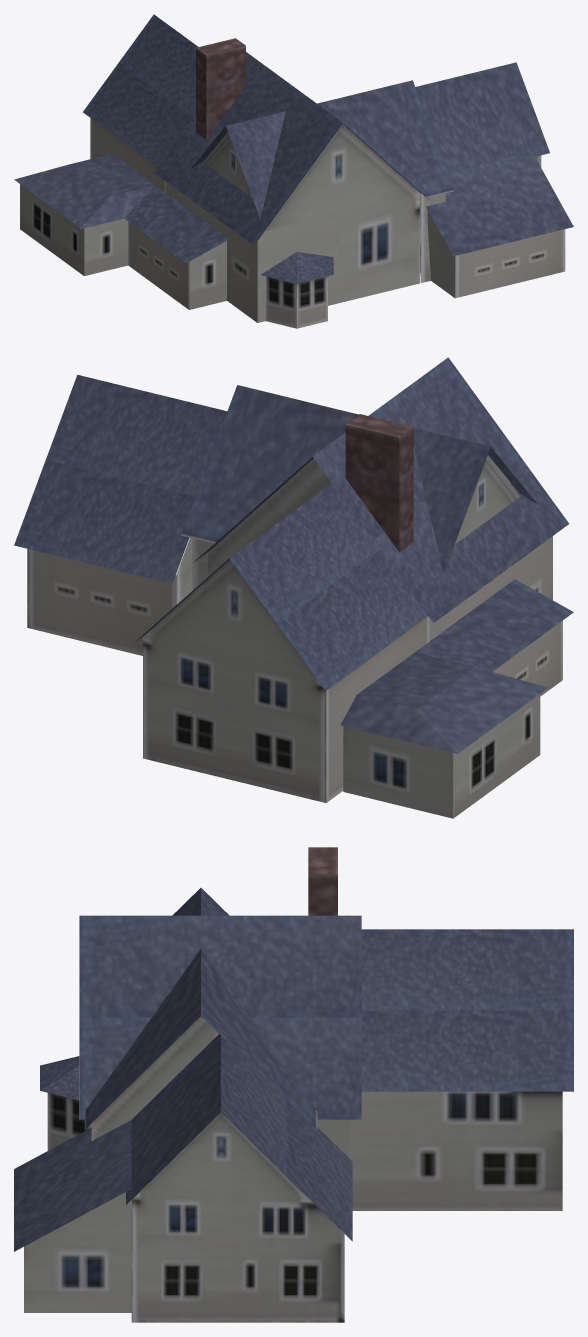
Rendered from building3.obj.
3 renders of one model, top to bottom at view 1: azimuth 30°, elevation 25°; view 2: azimuth 150°, elevation 25°; view 3: azimuth 270°, elevation 25°, orthographic. The views are drawn at different scales.
Visible parts, largest first — view 1: building3; view 2: building3; view 3: building3.
Part boxes in pixels (x1,y1,x2,y2): building3: (14,14,573,328); building3: (14,357,573,818); building3: (14,847,573,1322).
Bounding box in the file's own units: 0.5458 × 0.2721 × 0.4784.
